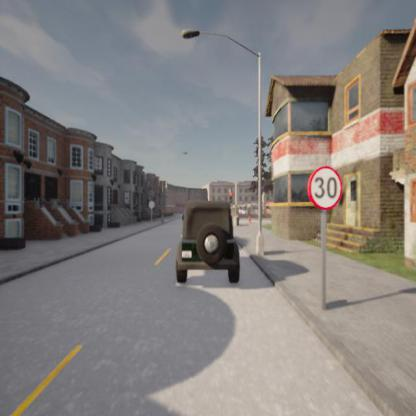traffic_sign_30: (308, 166, 341, 210)
vehicle: (176, 200, 241, 284)
